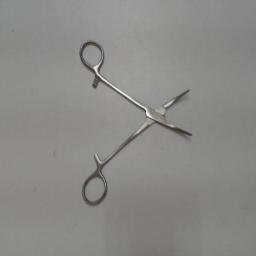Crile Artery Forceps: (78, 36, 198, 208)
